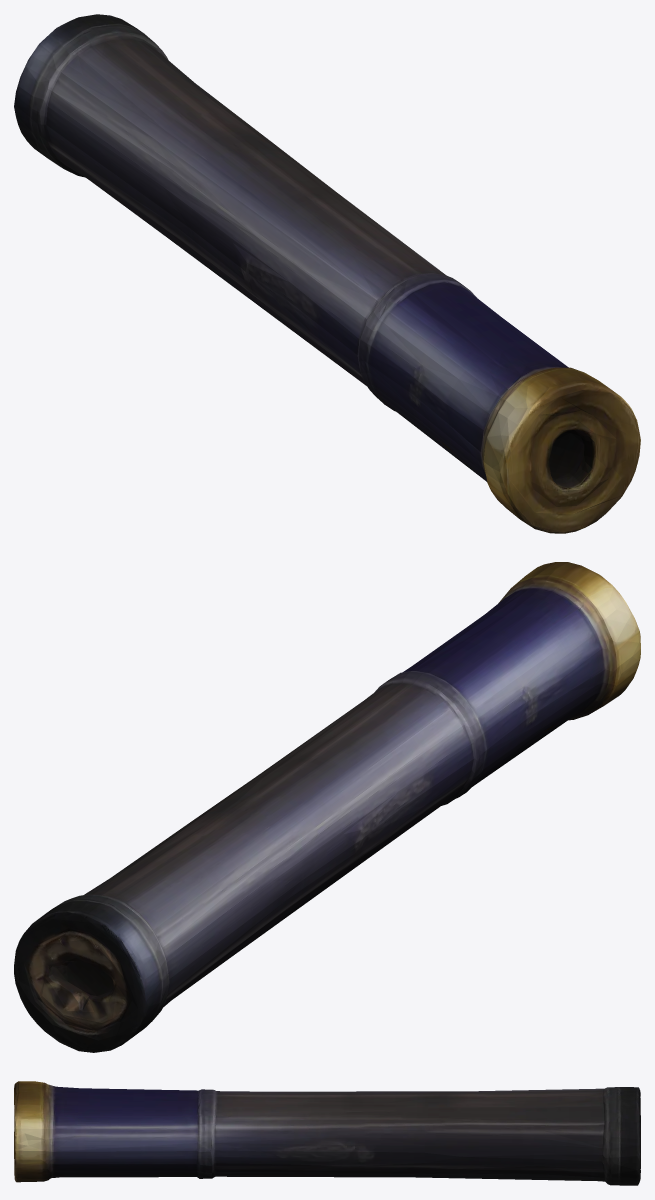
Rendered from ppk_suppressor.glb.
3 views of the same model, one above another, from view 1: azimuth 30°, elevation 25°; view 2: azimuth 150°, elevation 25°; view 3: azimuth 270°, elevation 25° (orthographic). The views are drawn at different scales.
Visible parts, largest first — view 1: geometry_0; view 2: geometry_0; view 3: geometry_0.
Part boxes in pixels (box(x1,y1,x2,y2)): geometry_0: box(14, 14, 640, 533); geometry_0: box(14, 562, 640, 1052); geometry_0: box(14, 1081, 640, 1185).
Bounding box in the file's own units: 0.1755 × 0.1621 × 0.9999.
Materials: 1 (1 with a texture image).
